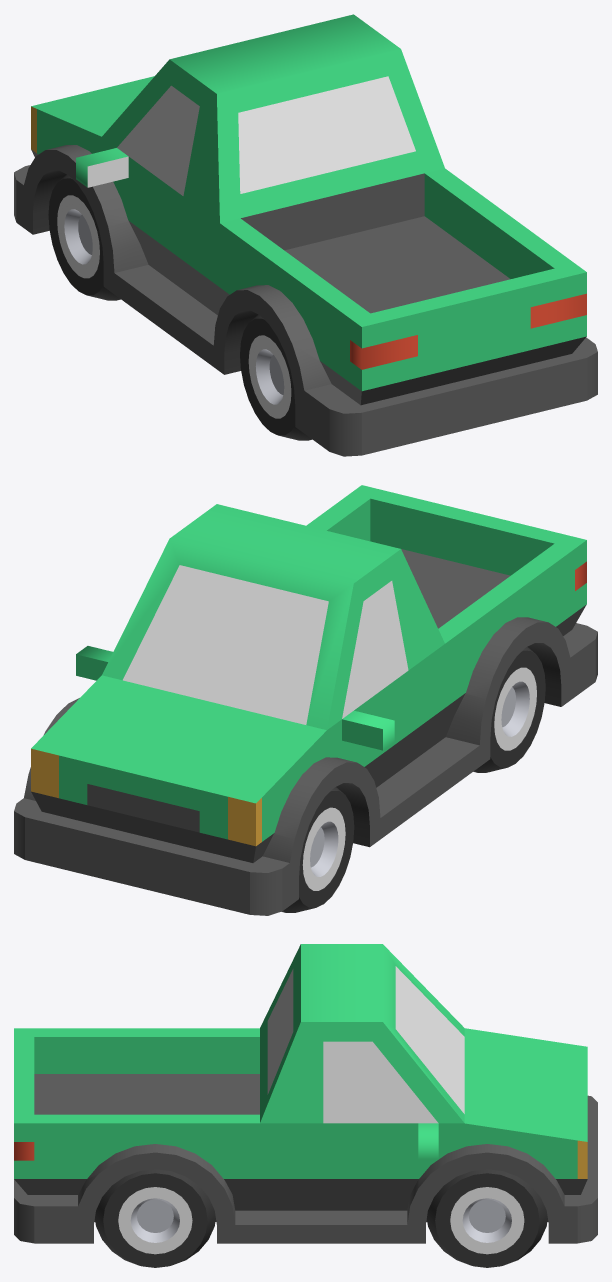
Rendered from truck.glb.
3 renders of one model, top to bottom at view 1: azimuth 30°, elevation 25°; view 2: azimuth 150°, elevation 25°; view 3: azimuth 270°, elevation 25°, orthographic. The views are drawn at different scales.
Parts seen in each view (by area): view 1: body, wheel_backLeft, wheel_frontLeft; view 2: body, wheel_backLeft, wheel_frontLeft; view 3: body, wheel_backRight, wheel_frontRight.
Boxes of the visible parts, x1,y1,x2,y2 form: body: (14,14,597,456); wheel_backLeft: (240,314,312,440); wheel_frontLeft: (48,174,120,300); body: (14,485,597,915); wheel_backLeft: (473,646,545,772); wheel_frontLeft: (281,787,354,912); body: (14,944,597,1243); wheel_backRight: (95,1169,215,1267); wheel_frontRight: (427,1169,547,1267).
Size of the model in its own units: 1.5 by 1.3 by 2.85.
